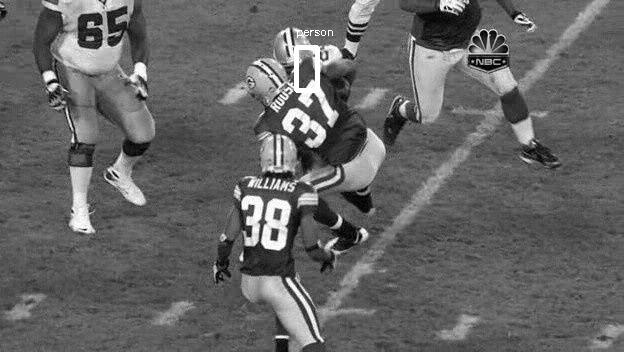person: (277, 33, 310, 75), (276, 33, 309, 75), (278, 33, 311, 75), (277, 32, 310, 74), (277, 34, 310, 76)
target_negative: (7, 4, 470, 141), (76, 94, 549, 150), (504, 91, 566, 184), (369, 118, 388, 324), (254, 190, 290, 293), (620, 64, 621, 314)
